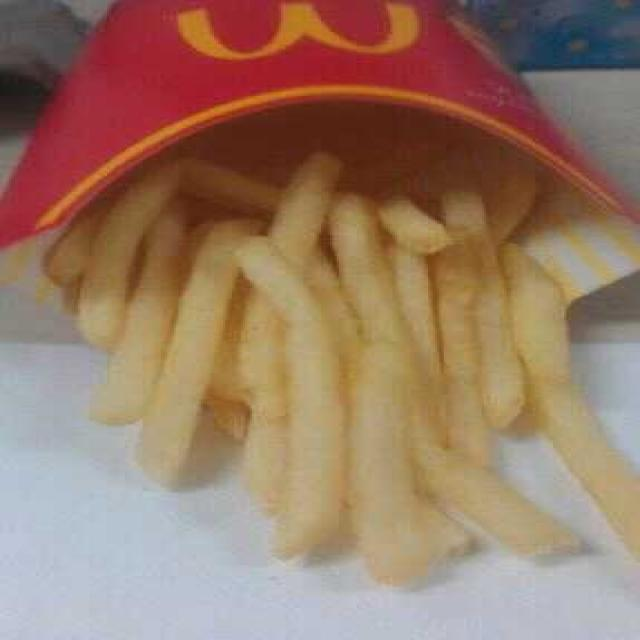French Fries: (42, 135, 611, 589)
